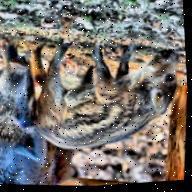boar: (20, 2, 191, 173)
